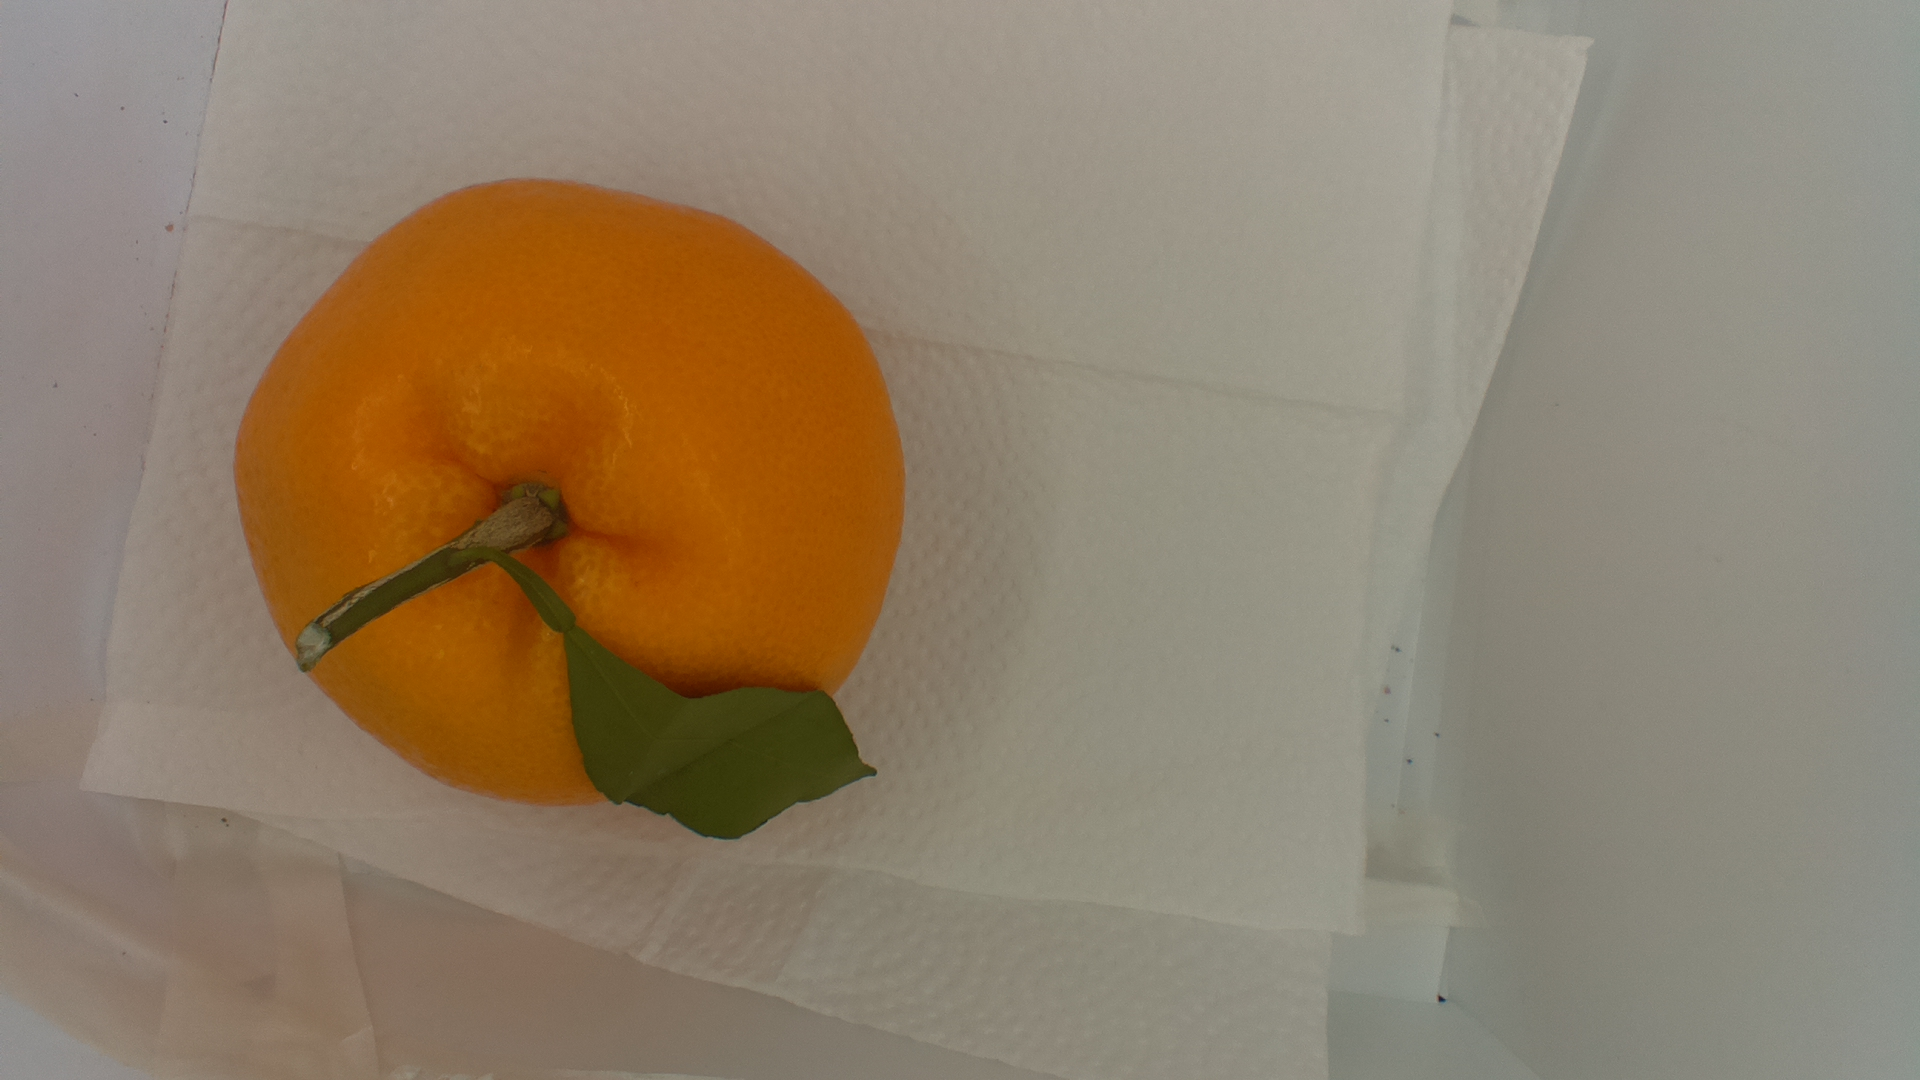fruit: (225, 174, 905, 839)
